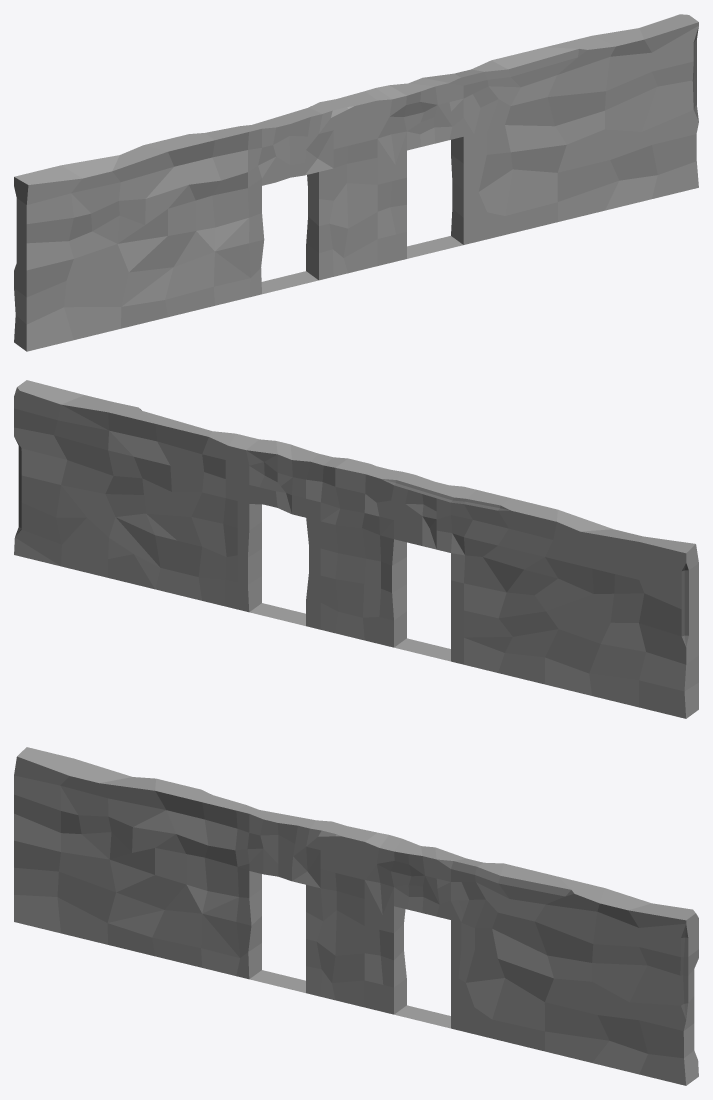
Rendered from Fixed Mesh 9.fbx.
3 views of the same model, one above another, from view 1: azimuth 30°, elevation 25°; view 2: azimuth 150°, elevation 25°; view 3: azimuth 330°, elevation 25° (orthographic).
Parts seen in each view (by area): view 1: Cube.030; view 2: Cube.030; view 3: Cube.030.
Boxes of the visible parts, left/top/right/bottom form: Cube.030: left=14, top=14, right=698, bottom=351; Cube.030: left=14, top=380, right=698, bottom=718; Cube.030: left=14, top=747, right=698, bottom=1085.
Size of the model in its own units: 1820 by 428 by 70.44.
